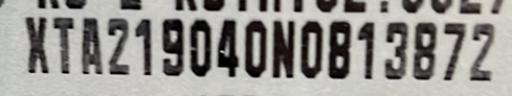letter: (155, 13, 189, 79), (407, 17, 439, 85), (48, 14, 82, 76), (466, 19, 498, 83), (351, 17, 381, 83), (21, 16, 55, 74), (103, 13, 133, 77), (78, 15, 108, 77), (298, 18, 328, 80), (437, 18, 467, 80), (186, 13, 214, 79), (240, 17, 268, 79), (381, 19, 409, 81), (326, 17, 354, 77), (269, 18, 297, 76), (214, 17, 240, 79), (132, 14, 156, 76)
